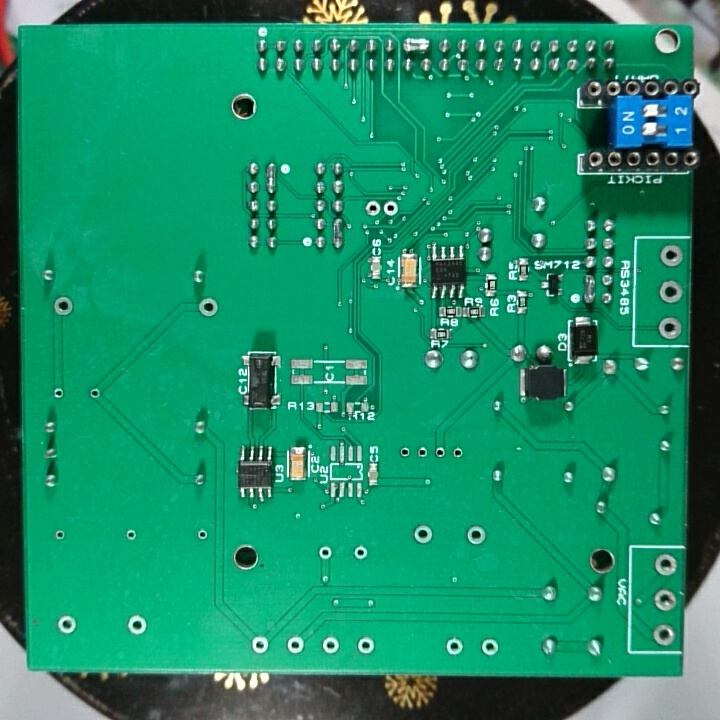F: (653, 314, 684, 343), (656, 275, 684, 307), (657, 241, 685, 273), (123, 610, 150, 642), (650, 586, 678, 614), (653, 552, 681, 580), (462, 523, 490, 550), (650, 622, 677, 648), (50, 294, 76, 320), (247, 632, 271, 660), (281, 633, 307, 658), (411, 521, 435, 548), (196, 295, 221, 320), (55, 613, 80, 637), (318, 631, 340, 658), (354, 634, 376, 660), (350, 540, 372, 566), (443, 635, 466, 659), (479, 635, 500, 660), (362, 195, 382, 220), (381, 197, 400, 220), (315, 542, 333, 565), (450, 444, 466, 466), (398, 443, 413, 466), (431, 444, 448, 464), (122, 525, 139, 544), (87, 384, 103, 404), (415, 443, 429, 465), (50, 385, 67, 403), (194, 526, 209, 546), (52, 527, 68, 545)
P: (329, 214, 346, 253), (400, 35, 433, 55), (581, 273, 597, 307), (263, 160, 278, 195)
